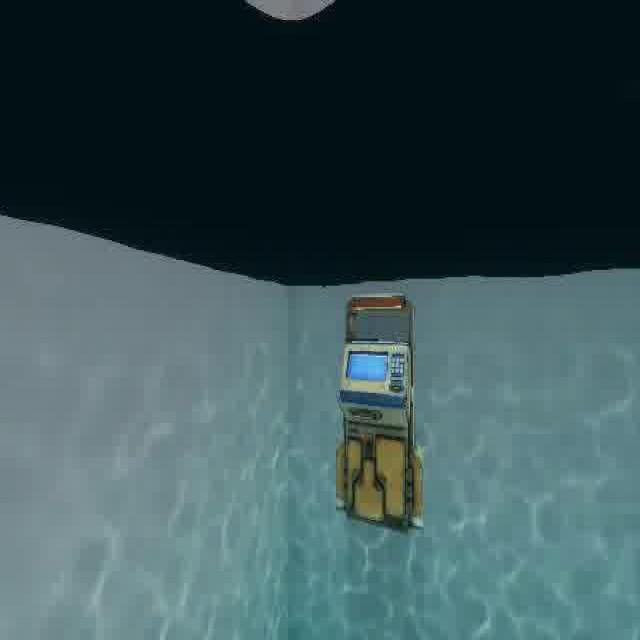Control Panel: (325, 286, 440, 536)
